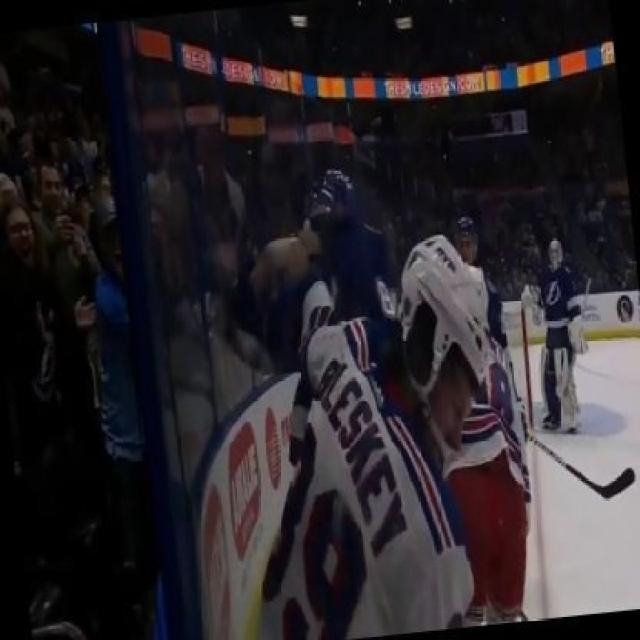fight: (207, 147, 533, 640)
non-fight: (512, 229, 600, 440)
